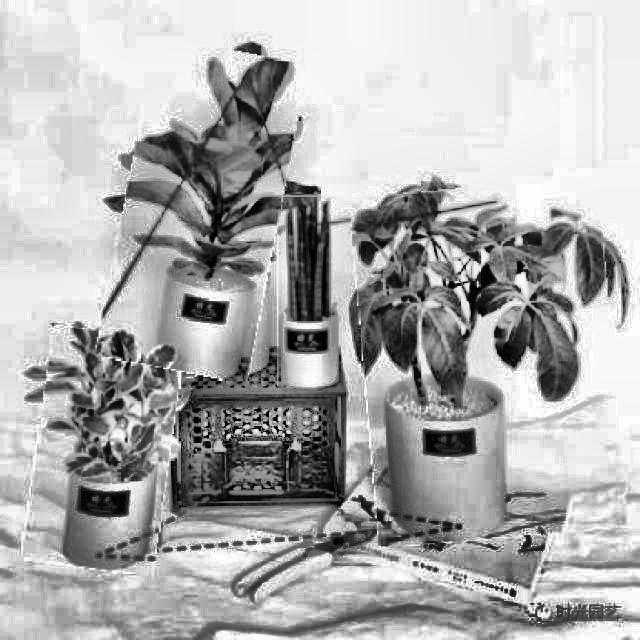plants: (356, 182, 622, 542), (111, 42, 294, 378), (29, 328, 177, 572), (277, 195, 340, 388)
